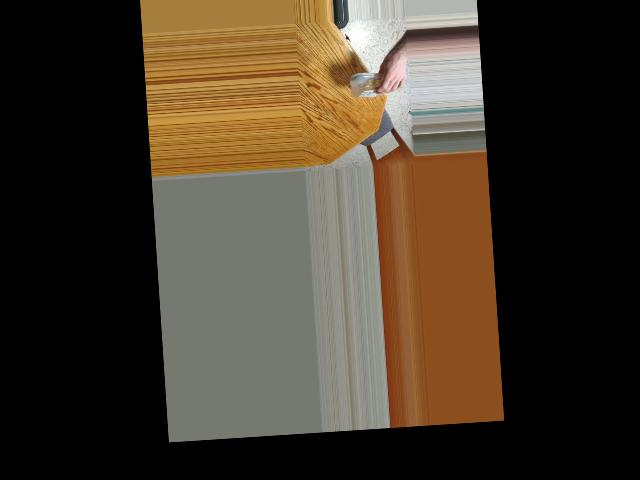cheese: (344, 61, 393, 105)
